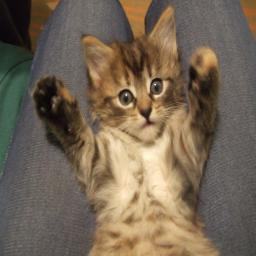catnose: (138, 105, 154, 121)
